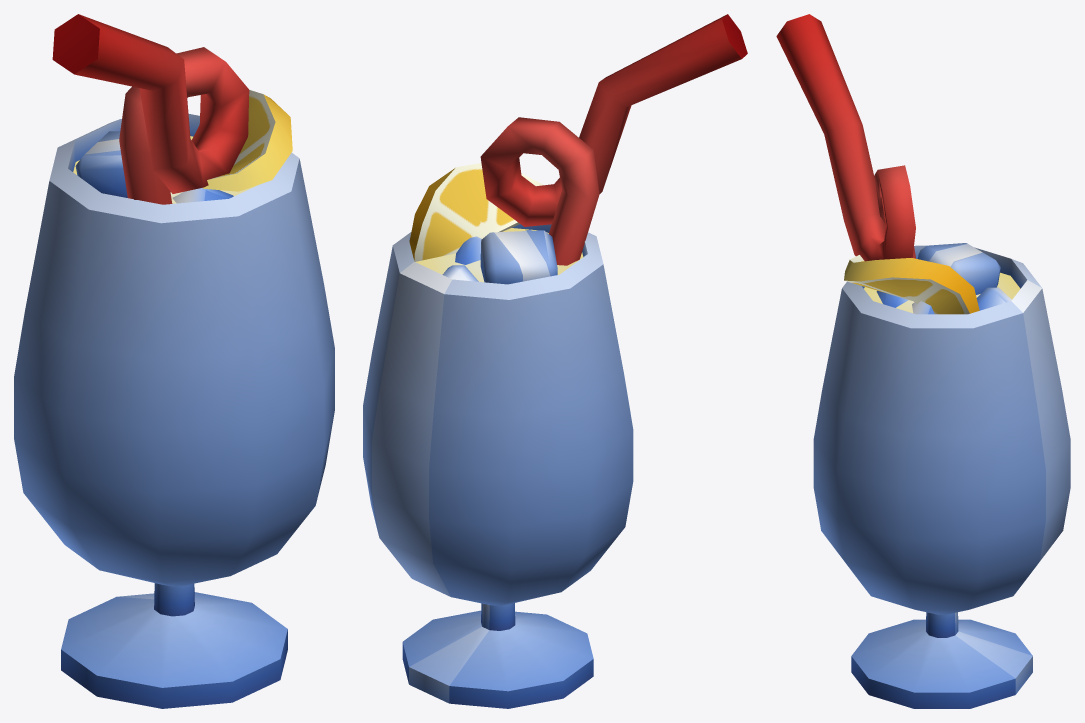
The model's file is m_Cocktail23.fbx.
3 views of the same model, side by side, from view 1: azimuth 30°, elevation 25°; view 2: azimuth 150°, elevation 25°; view 3: azimuth 270°, elevation 25° (orthographic). The views are drawn at different scales.
Parts seen in each view (by area): view 1: m_Cocktail23; view 2: m_Cocktail23; view 3: m_Cocktail23.
Boxes of the visible parts, x1,y1,x2,y2 form: m_Cocktail23: (14,14,334,708); m_Cocktail23: (363,14,747,708); m_Cocktail23: (776,14,1070,708).
Size of the model in its own units: 16.97 by 35.8 by 16.2.
